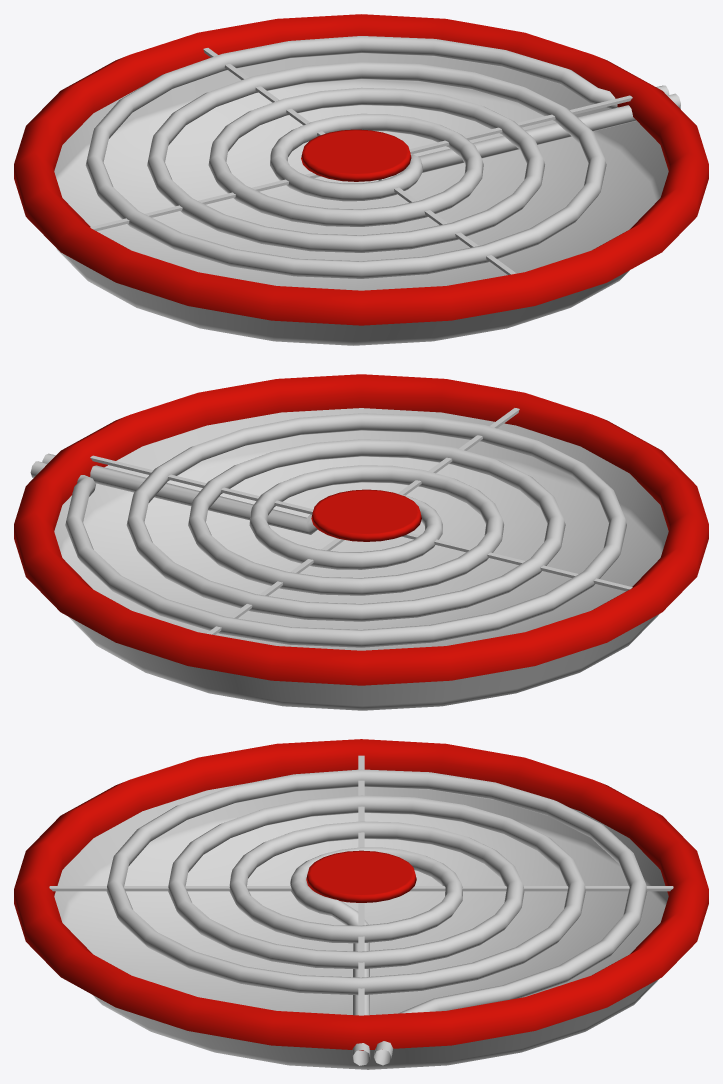
File: RangeStyle5.fbx
The picture shows the model from 3 angles, top to bottom: view 1: azimuth 30°, elevation 25°; view 2: azimuth 150°, elevation 25°; view 3: azimuth 270°, elevation 25°; orthographic projection.
Visible parts, largest first — view 1: Spiral.001; view 2: Spiral.001; view 3: Spiral.001.
Boxes of the visible parts, x1,y1,x2,y2 form: Spiral.001: (14,14,708,345); Spiral.001: (14,374,708,710); Spiral.001: (14,739,708,1069).
Size of the model in its own units: 243 by 30.49 by 238.
